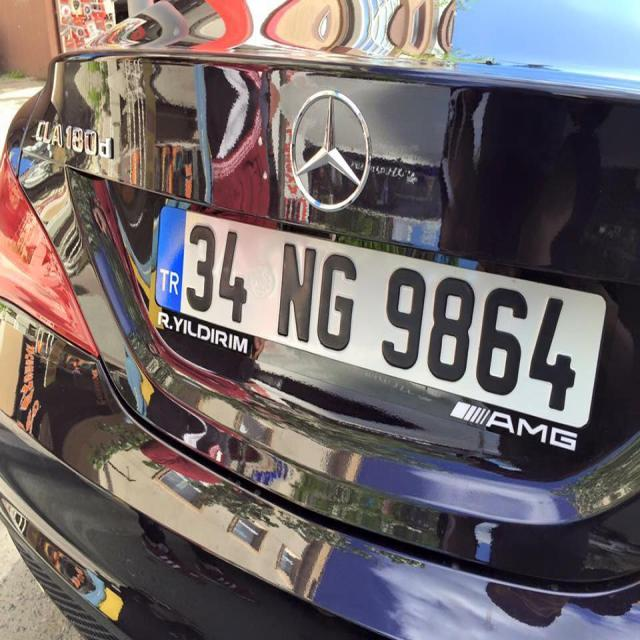plate: (151, 205, 609, 439)
